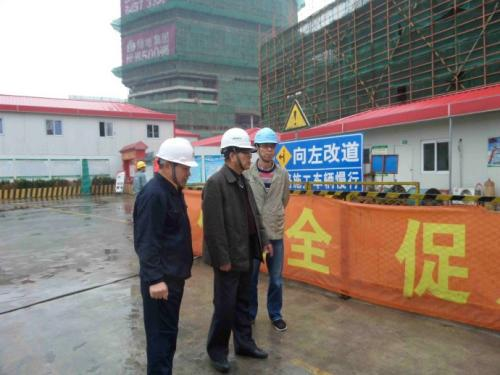helmet: (154, 137, 197, 187), (220, 126, 253, 175), (255, 126, 282, 163)
